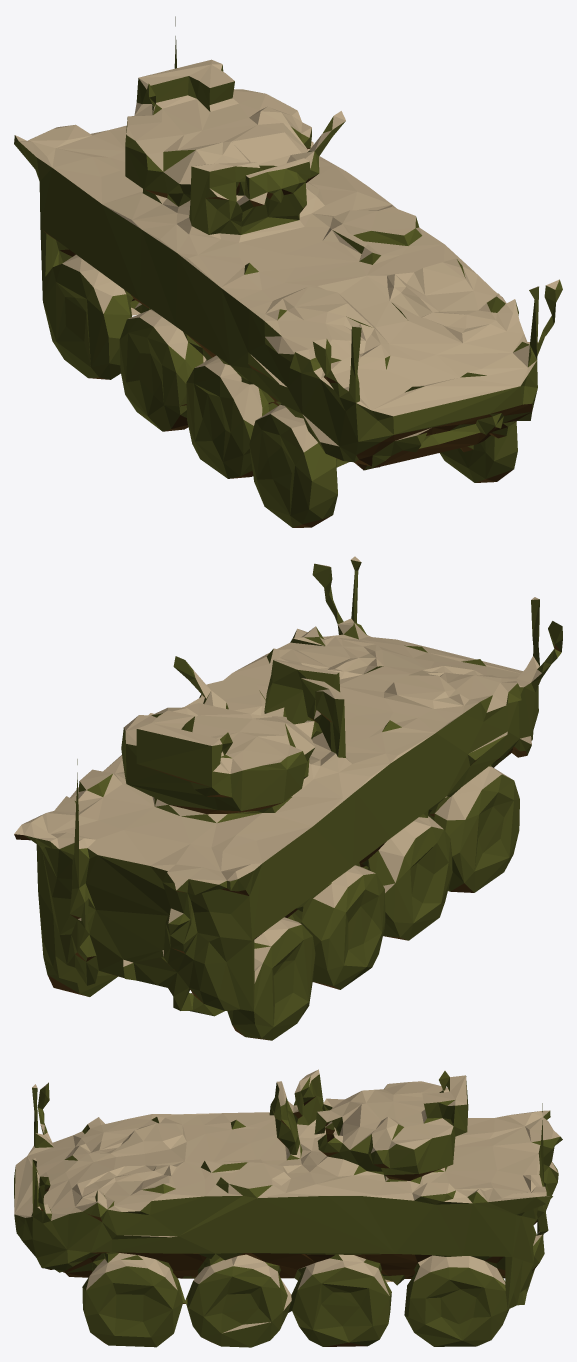
File: SM_VCR_Dragon.fbx
3 renders of one model, top to bottom at view 1: azimuth 30°, elevation 25°; view 2: azimuth 150°, elevation 25°; view 3: azimuth 270°, elevation 25°, orthographic. The views are drawn at different scales.
Parts seen in each view (by area): view 1: SM_VCR_Dragon; view 2: SM_VCR_Dragon; view 3: SM_VCR_Dragon.
Boxes of the visible parts, x1,y1,x2,y2 form: SM_VCR_Dragon: (14, 16, 562, 527); SM_VCR_Dragon: (14, 556, 562, 1040); SM_VCR_Dragon: (14, 1069, 562, 1347).
Size of the model in its own units: 3.32 by 3.59 by 7.98.
1 material, 1 textured.
